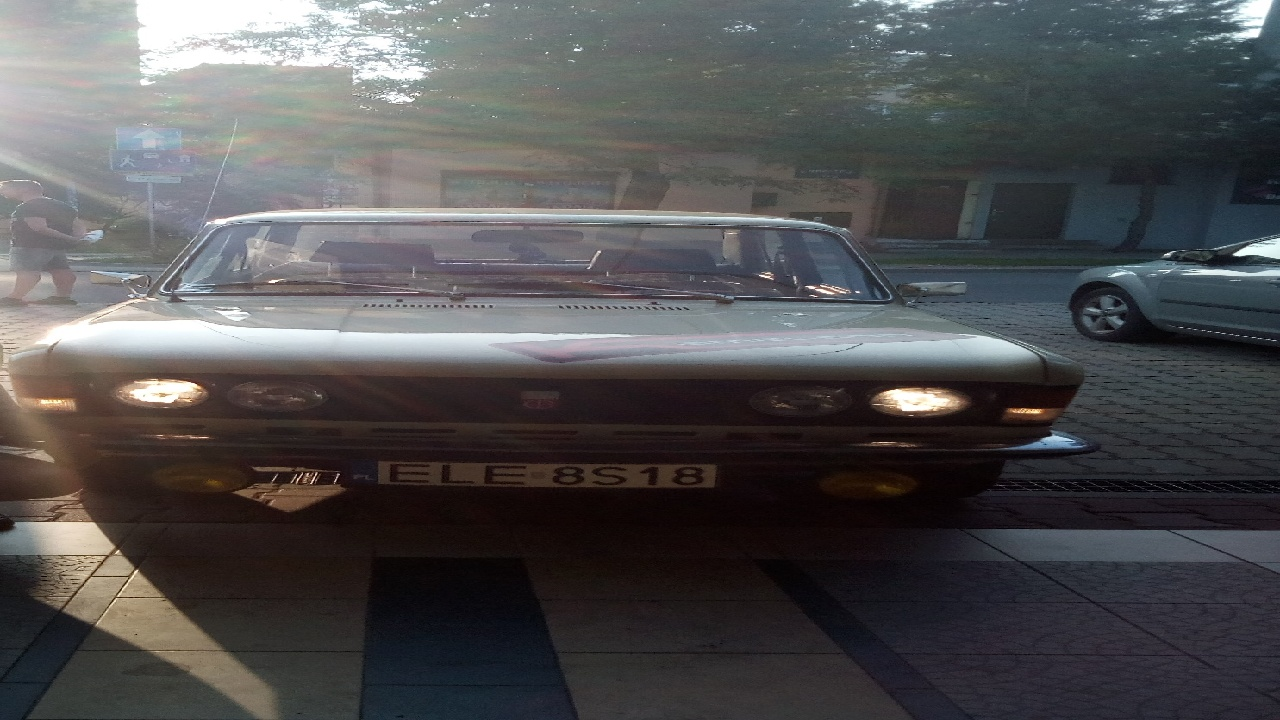D3: (116, 124, 181, 152)
D40: (111, 149, 196, 175)
